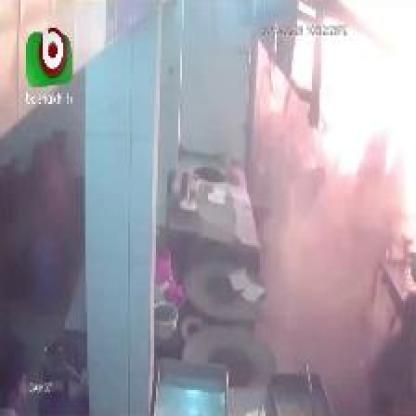fire: (297, 2, 416, 247)
